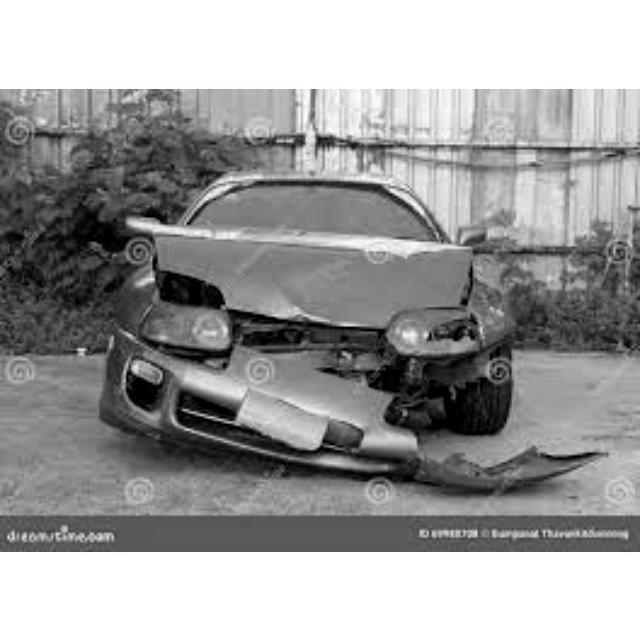Headlight-damage: (384, 308, 492, 356)
bonnet-dent: (164, 227, 471, 313)
front-bumper-dent: (230, 318, 376, 466), (387, 370, 489, 479)
